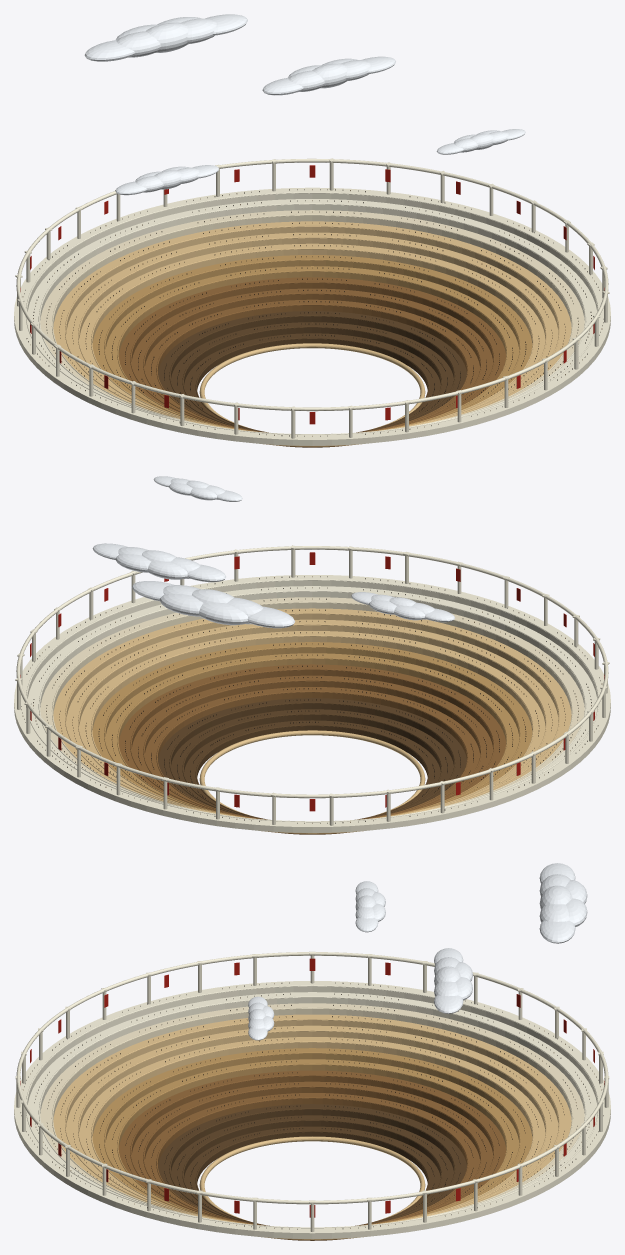
File: Stage_0012.fbx
3 renders of one model, top to bottom at view 1: azimuth 30°, elevation 25°; view 2: azimuth 150°, elevation 25°; view 3: azimuth 270°, elevation 25°, orthographic.
Visible parts, largest first — view 1: HIGH_BOWL_TIER_13, HIGH_BOWL_TIER_12, HIGH_BOWL_TIER_11, HIGH_BOWL_TIER_10, HIGH_BOWL_TIER_09, HIGH_BOWL_TIER_08, HIGH_BOWL_TIER_07, HIGH_BOWL_TIER_06, HIGH_BOWL_TIER_05, HIGH_BOWL_TIER_04, UPPER_RING, HIGH_BOWL_TIER_03 (+24 smaller); view 2: HIGH_BOWL_TIER_13, HIGH_BOWL_TIER_12, HIGH_BOWL_TIER_09, HIGH_BOWL_TIER_08, HIGH_BOWL_TIER_10, HIGH_BOWL_TIER_07, HIGH_BOWL_TIER_11, HIGH_BOWL_TIER_06, HIGH_BOWL_TIER_05, HIGH_BOWL_TIER_04, UPPER_RING, HIGH_BOWL_TIER_03 (+25 smaller); view 3: HIGH_BOWL_TIER_13, HIGH_BOWL_TIER_12, HIGH_BOWL_TIER_11, HIGH_BOWL_TIER_10, HIGH_BOWL_TIER_09, HIGH_BOWL_TIER_08, HIGH_BOWL_TIER_07, HIGH_BOWL_TIER_06, HIGH_BOWL_TIER_05, HIGH_BOWL_TIER_04, UPPER_RING, HIGH_BOWL_TIER_03 (+20 smaller).
Boxes of the visible parts, bbox=[...] form: HIGH_BOWL_TIER_13: bbox=[14, 187, 610, 445]; HIGH_BOWL_TIER_12: bbox=[27, 199, 597, 445]; HIGH_BOWL_TIER_11: bbox=[40, 210, 584, 445]; HIGH_BOWL_TIER_10: bbox=[53, 221, 571, 445]; HIGH_BOWL_TIER_09: bbox=[66, 232, 558, 446]; HIGH_BOWL_TIER_08: bbox=[79, 243, 545, 446]; HIGH_BOWL_TIER_07: bbox=[92, 255, 532, 446]; HIGH_BOWL_TIER_06: bbox=[105, 266, 519, 446]; HIGH_BOWL_TIER_05: bbox=[118, 277, 506, 446]; HIGH_BOWL_TIER_04: bbox=[132, 288, 492, 446]; UPPER_RING: bbox=[16, 158, 608, 411]; HIGH_BOWL_TIER_03: bbox=[145, 299, 479, 447]; HIGH_BOWL_TIER_13: bbox=[14, 575, 610, 832]; HIGH_BOWL_TIER_12: bbox=[27, 586, 597, 832]; HIGH_BOWL_TIER_09: bbox=[66, 619, 558, 833]; HIGH_BOWL_TIER_08: bbox=[79, 631, 545, 833]; HIGH_BOWL_TIER_10: bbox=[53, 608, 571, 833]; HIGH_BOWL_TIER_07: bbox=[92, 642, 532, 833]; HIGH_BOWL_TIER_11: bbox=[40, 597, 584, 832]; HIGH_BOWL_TIER_06: bbox=[105, 653, 519, 833]; HIGH_BOWL_TIER_05: bbox=[118, 664, 506, 833]; HIGH_BOWL_TIER_04: bbox=[132, 675, 492, 834]; UPPER_RING: bbox=[16, 546, 608, 798]; HIGH_BOWL_TIER_03: bbox=[145, 687, 479, 834]; HIGH_BOWL_TIER_13: bbox=[14, 981, 610, 1238]; HIGH_BOWL_TIER_12: bbox=[27, 992, 597, 1238]; HIGH_BOWL_TIER_11: bbox=[40, 1003, 584, 1239]; HIGH_BOWL_TIER_10: bbox=[53, 1014, 571, 1239]; HIGH_BOWL_TIER_09: bbox=[66, 1025, 558, 1239]; HIGH_BOWL_TIER_08: bbox=[79, 1037, 545, 1239]; HIGH_BOWL_TIER_07: bbox=[92, 1048, 532, 1239]; HIGH_BOWL_TIER_06: bbox=[105, 1059, 519, 1239]; HIGH_BOWL_TIER_05: bbox=[118, 1070, 506, 1239]; HIGH_BOWL_TIER_04: bbox=[132, 1081, 492, 1240]; UPPER_RING: bbox=[16, 952, 608, 1204]; HIGH_BOWL_TIER_03: bbox=[145, 1093, 479, 1240].
Size of the model in its own units: 10960 by 5767 by 10960.
